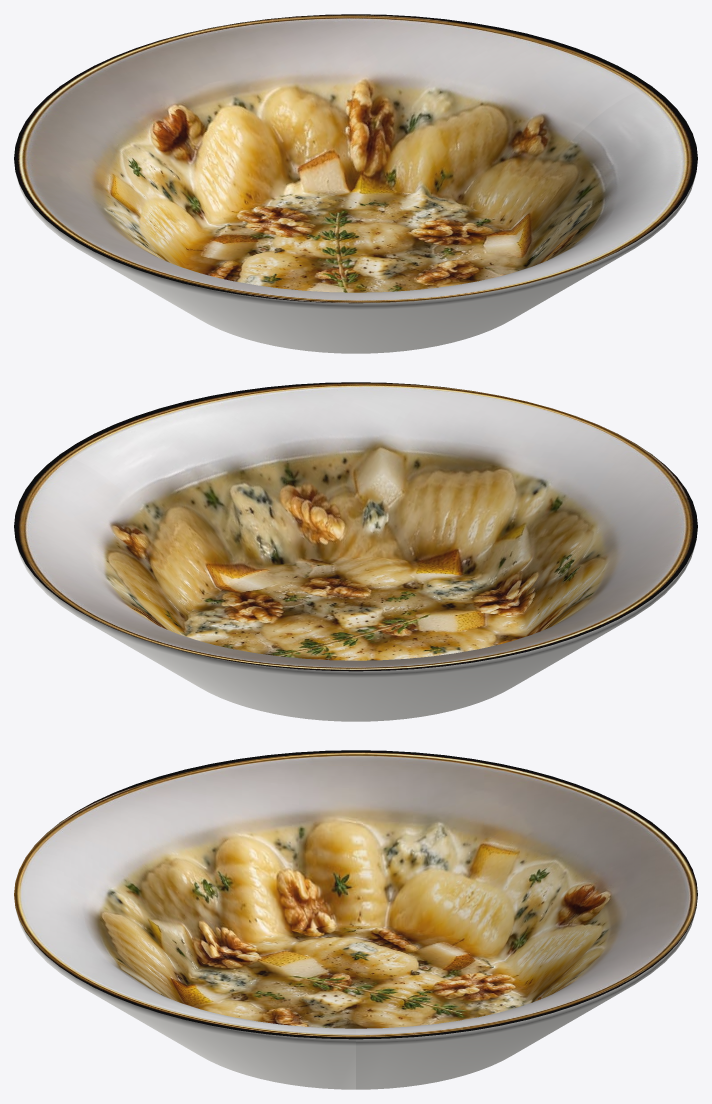
File: gnocchi.glb
The picture shows the model from 3 angles, top to bottom: view 1: azimuth 30°, elevation 25°; view 2: azimuth 150°, elevation 25°; view 3: azimuth 270°, elevation 25°; orthographic projection.
Parts seen in each view (by area): view 1: dish; view 2: dish; view 3: dish.
Boxes of the visible parts, x1,y1,x2,y2 form: dish: [14, 14, 697, 353]; dish: [14, 382, 697, 721]; dish: [14, 750, 697, 1089].
Bounding box in the file's own units: 0.25 × 0.05 × 0.25.
2 materials, 1 textured.
